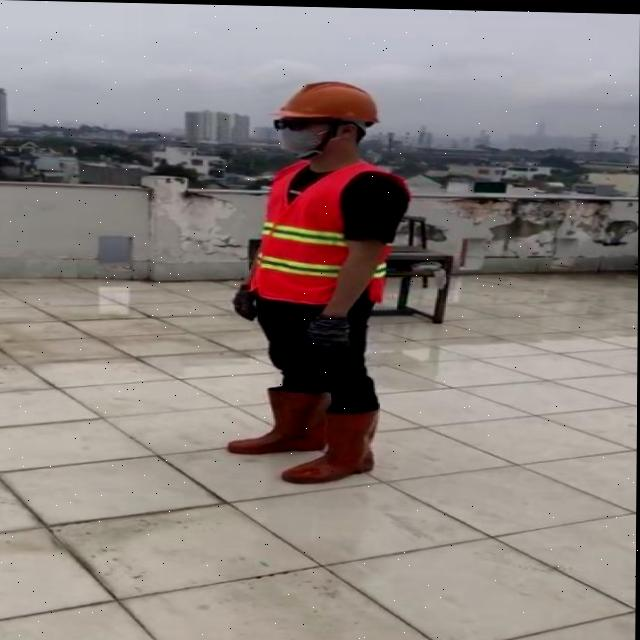Gloves: (306, 311, 353, 346), (234, 281, 259, 319)
Helmet: (271, 78, 381, 127)
Safety-Boot: (282, 404, 380, 483), (229, 383, 334, 454)
Safety-Vest: (251, 155, 407, 307)
